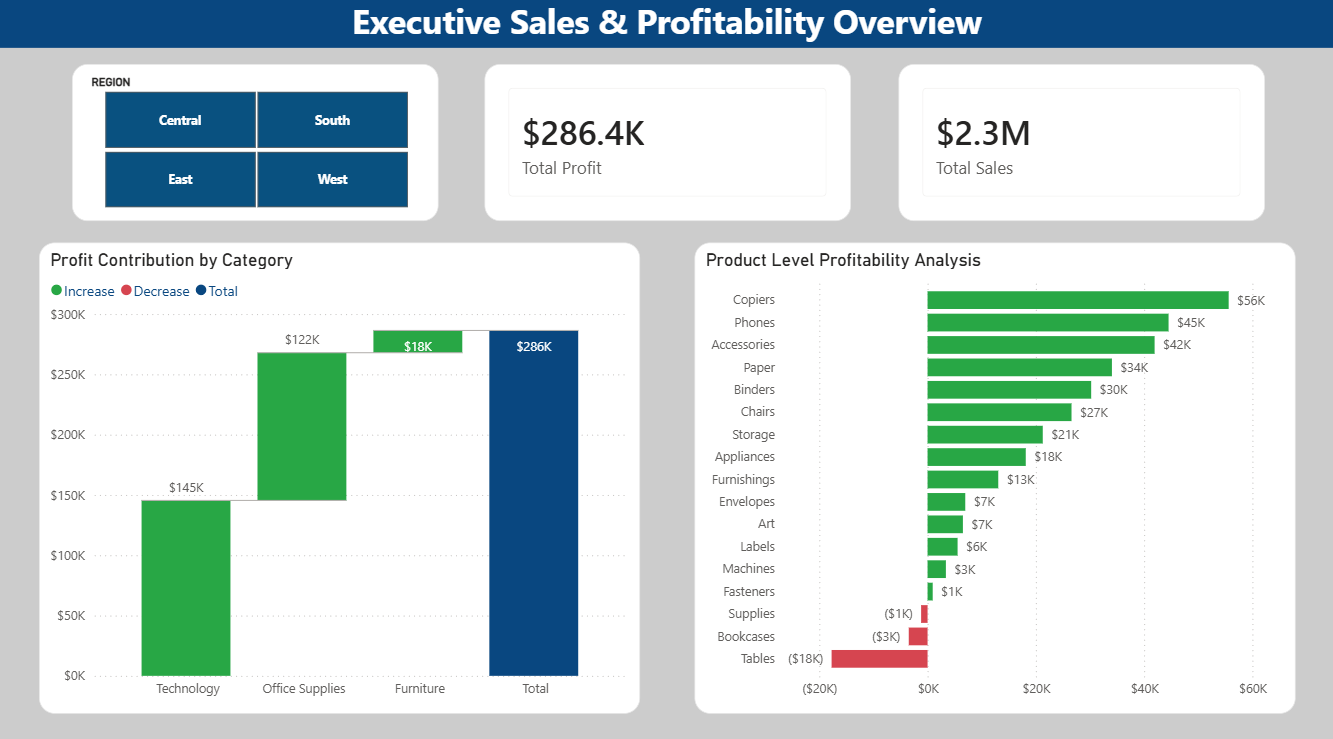

The page's visual inventory and layout, read from the dashboard file:
{"tool":"powerbi","page":{"name":"Overview","canvas":[1280,720],"ordinal":0},"visuals":[{"type":"waterfallChart","title":"Profit Contribution by Category","fields":{"Category":["public superstore_sales.category"],"Y":["Sum(public superstore_sales.profit)"]},"box":[39.8,238.6,574.2,450.1],"z":0},{"type":"slicer","fields":{"Values":["public superstore_sales.region"]},"box":[71.6,68.4,350,150],"z":1000},{"type":"clusteredBarChart","title":"Product Level Profitability Analysis","fields":{"Category":["public superstore_sales.sub_category"],"Y":["Sum(public superstore_sales.profit)"]},"box":[666.5,238.6,574.2,450.1],"z":2000},{"type":"cardVisual","fields":{"Data":["Sum(public superstore_sales.profit)"]},"box":[466,68.4,350,150],"z":3000},{"type":"textbox","box":[0,0,1279.2,53.4],"z":4000},{"type":"cardVisual","fields":{"Data":["Sum(public superstore_sales.sales)"]},"box":[860.5,68.4,350,150],"z":5000}]}

Visuals, with their boxes in screenshot pixels (x1, y1, x2, y2), scaled from the page's 1280x720 canvas onto the 1333x739 screenshot:
"Profit Contribution by Category" waterfallChart: 41/245/639/707
slicer - public superstore_sales.region: 75/70/439/224
"Product Level Profitability Analysis" clusteredBarChart: 694/245/1292/707
cardVisual - Sum(public superstore_sales.profit): 485/70/850/224
textbox: 0/0/1332/55
cardVisual - Sum(public superstore_sales.sales): 896/70/1261/224
